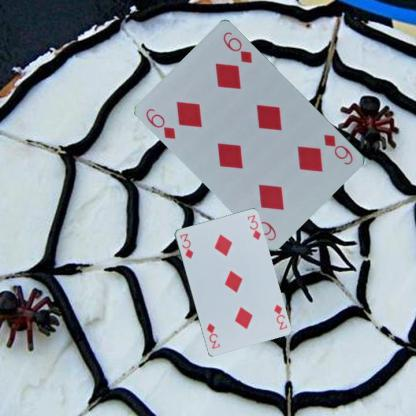3d: (271, 302, 288, 331), (178, 231, 194, 260)
6d: (321, 132, 355, 166), (144, 106, 178, 140)
